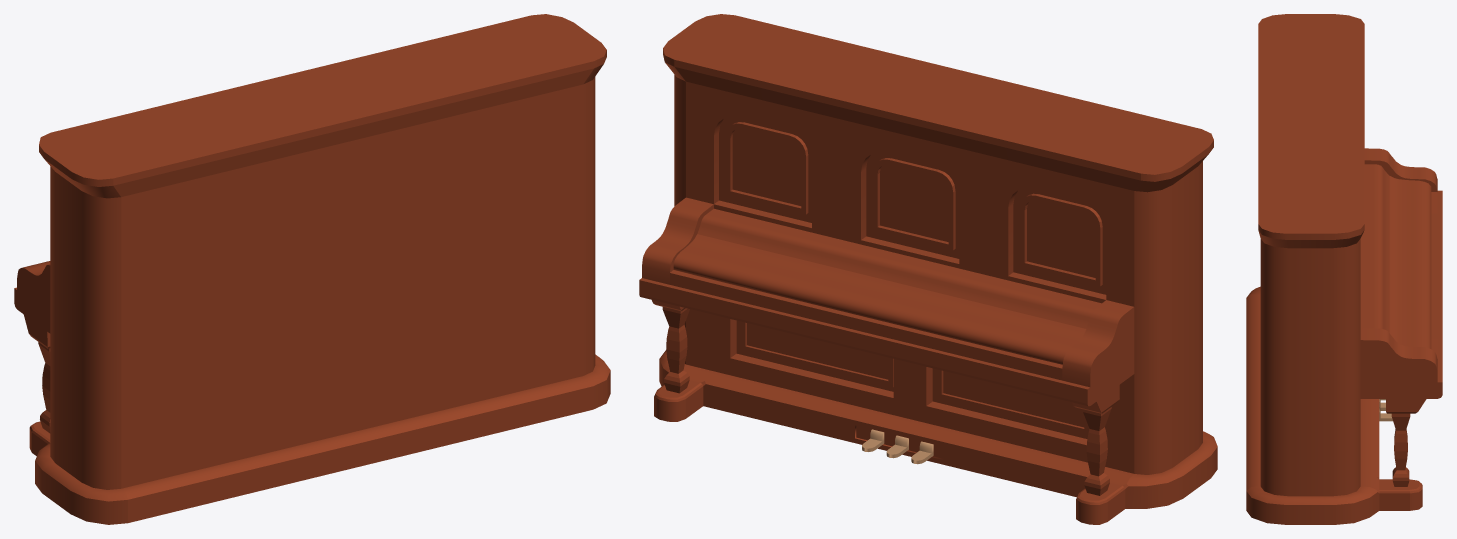
File: Piano_1.fbx
The picture shows the model from 3 angles, left to right: view 1: azimuth 30°, elevation 25°; view 2: azimuth 150°, elevation 25°; view 3: azimuth 270°, elevation 25°; orthographic projection. The views are drawn at different scales.
Visible parts, largest first — view 1: Piano; view 2: Piano, Cover, CoverBase; view 3: Piano, Cover, CoverBase.
Boxes of the visible parts, x1=… form: Piano: x1=14, y1=14, x2=610, y2=524; Piano: x1=639, y1=14, x2=1217, y2=524; Cover: x1=673, y1=234, x2=1086, y2=364; CoverBase: x1=697, y1=208, x2=1101, y2=328; Piano: x1=1246, y1=14, x2=1442, y2=524; Cover: x1=1389, y1=176, x2=1431, y2=348; CoverBase: x1=1360, y1=164, x2=1389, y2=332.
Size of the model in its own units: 5.24 by 1.96 by 3.21.
